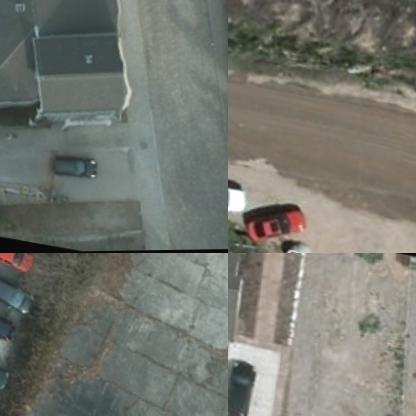car: (234, 196, 305, 252), (228, 357, 261, 415), (39, 154, 91, 186), (0, 273, 29, 317), (0, 253, 31, 277), (228, 174, 244, 220)
